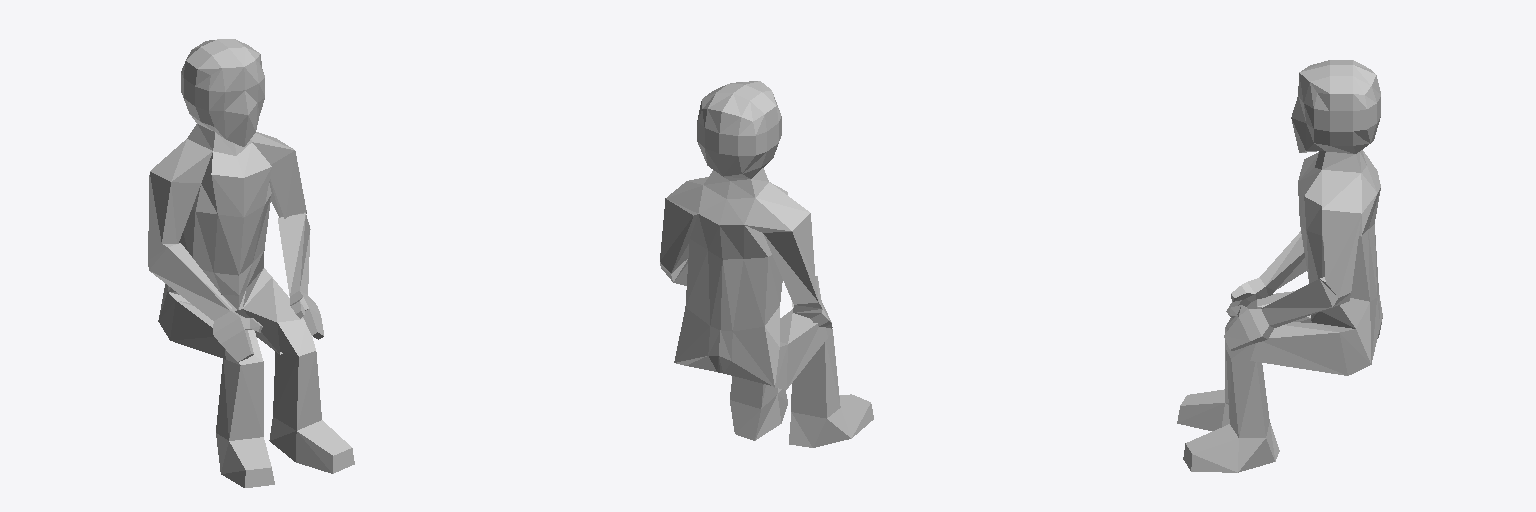
The model's file is player_rigged.obj.
3 renders of one model, left to right at view 1: azimuth 30°, elevation 25°; view 2: azimuth 150°, elevation 25°; view 3: azimuth 270°, elevation 25°, orthographic.
Parts seen in each view (by area): view 1: Cube; view 2: Cube; view 3: Cube.
Boxes of the visible parts, x1,y1,x2,y2 form: Cube: [148, 39, 354, 487]; Cube: [660, 81, 873, 447]; Cube: [1177, 60, 1382, 472].
Bounding box in the file's own units: 4.81 × 10.79 × 5.3.